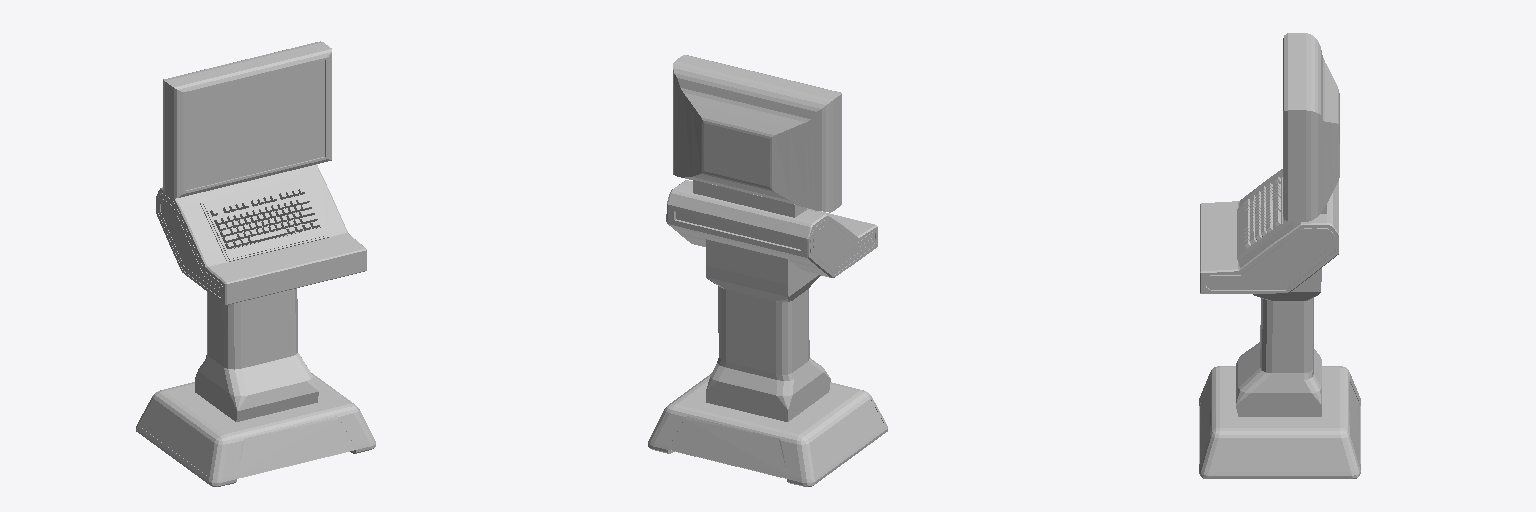
The model's file is control_terminal.obj.
The picture shows the model from 3 angles: view 1: azimuth 30°, elevation 25°; view 2: azimuth 150°, elevation 25°; view 3: azimuth 270°, elevation 25°; orthographic projection.
Visible parts, largest first — view 1: Cube.003, Cube.018, Cube.012, Cube.007, Cube.015, Cube.022, Cube.020; view 2: Cube.015, Cube.007, Cube.003, Cube.012; view 3: Cube.003, Cube.012, Cube.015, Cube.007, Cube.022.
Boxes of the visible parts, x1,y1,x2,y2 form: Cube.003: [136, 373, 375, 486]; Cube.018: [185, 60, 324, 190]; Cube.012: [156, 164, 366, 304]; Cube.007: [195, 288, 318, 421]; Cube.015: [163, 41, 331, 198]; Cube.022: [207, 187, 321, 250]; Cube.020: [203, 179, 326, 258]; Cube.015: [673, 55, 841, 212]; Cube.007: [706, 239, 830, 421]; Cube.003: [648, 373, 887, 486]; Cube.012: [666, 180, 877, 277]; Cube.003: [1199, 366, 1360, 478]; Cube.012: [1200, 169, 1338, 293]; Cube.015: [1283, 33, 1339, 221]; Cube.007: [1236, 268, 1321, 416]; Cube.022: [1244, 177, 1282, 249].
Bounding box in the file's own units: 3.13 × 6.63 × 2.62.